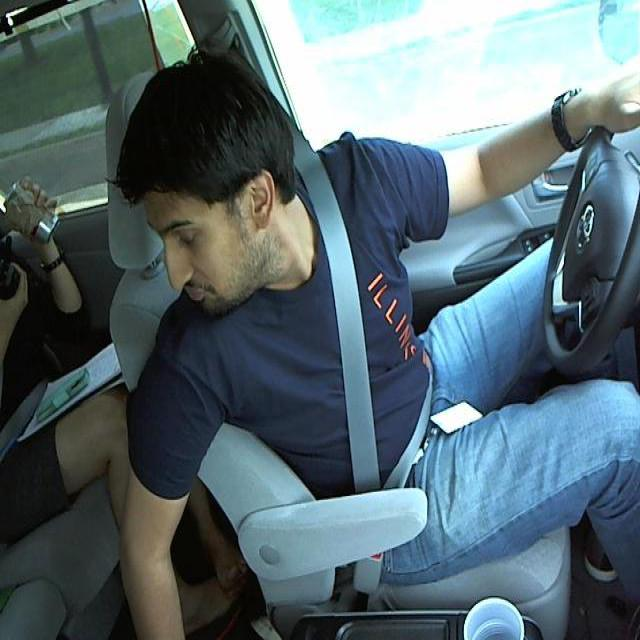seatbelt: (310, 241, 433, 484)
